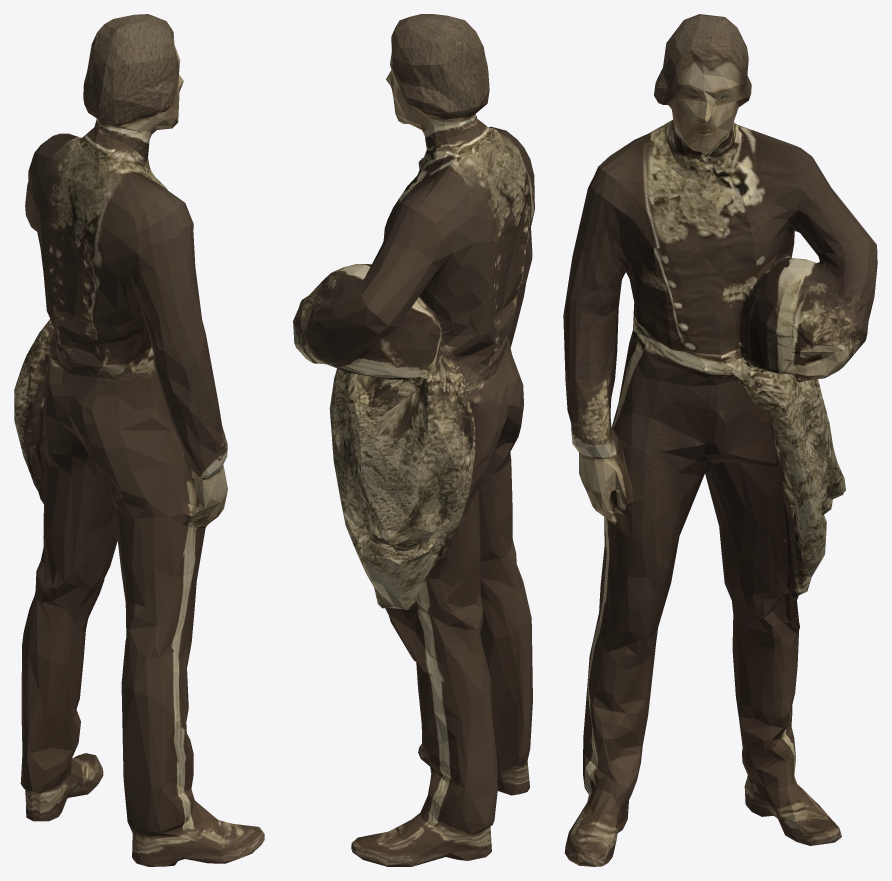
3 renders of one model, left to right at view 1: azimuth 30°, elevation 25°; view 2: azimuth 150°, elevation 25°; view 3: azimuth 270°, elevation 25°, orthographic. The views are drawn at different scales.
Parts seen in each view (by area): view 1: tripo_node_7df229b1-90fd-4010-a1be-d2ca1728c2d5; view 2: tripo_node_7df229b1-90fd-4010-a1be-d2ca1728c2d5; view 3: tripo_node_7df229b1-90fd-4010-a1be-d2ca1728c2d5.
Part boxes in pixels (<box>): tripo_node_7df229b1-90fd-4010-a1be-d2ca1728c2d5: <box>14,14,264,866</box>; tripo_node_7df229b1-90fd-4010-a1be-d2ca1728c2d5: <box>293,14,534,866</box>; tripo_node_7df229b1-90fd-4010-a1be-d2ca1728c2d5: <box>563,14,877,866</box>.
Bounding box in the file's own units: 0.4451 × 2 × 0.696.
Materials: 1 (1 with a texture image).
